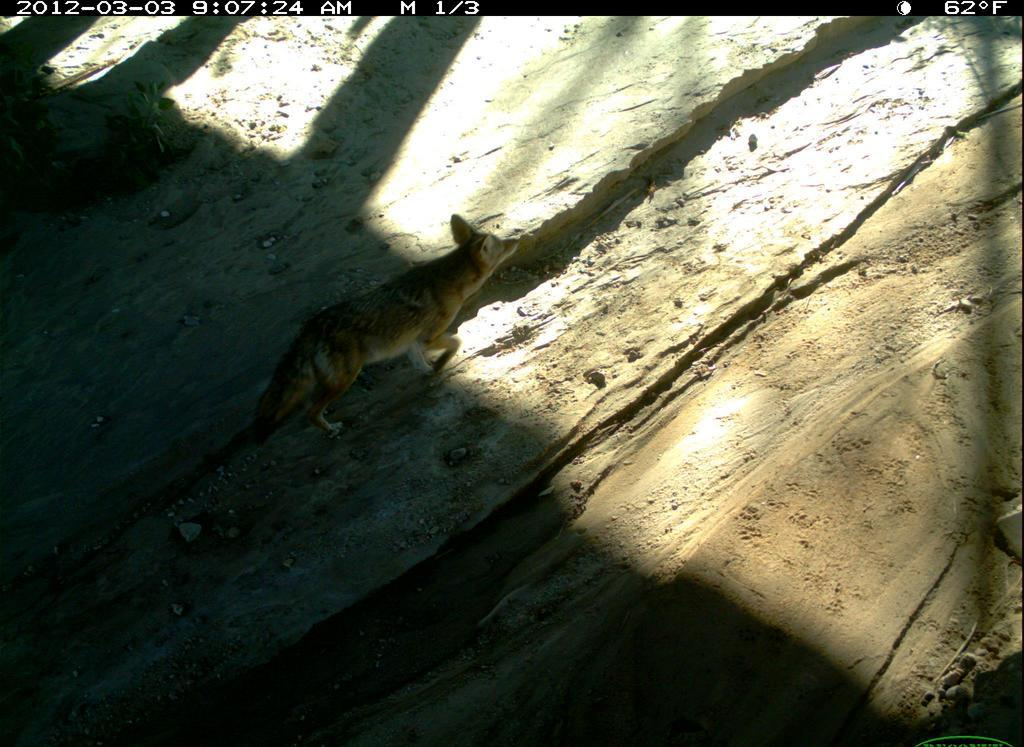coyote: (484, 408, 1024, 747)
